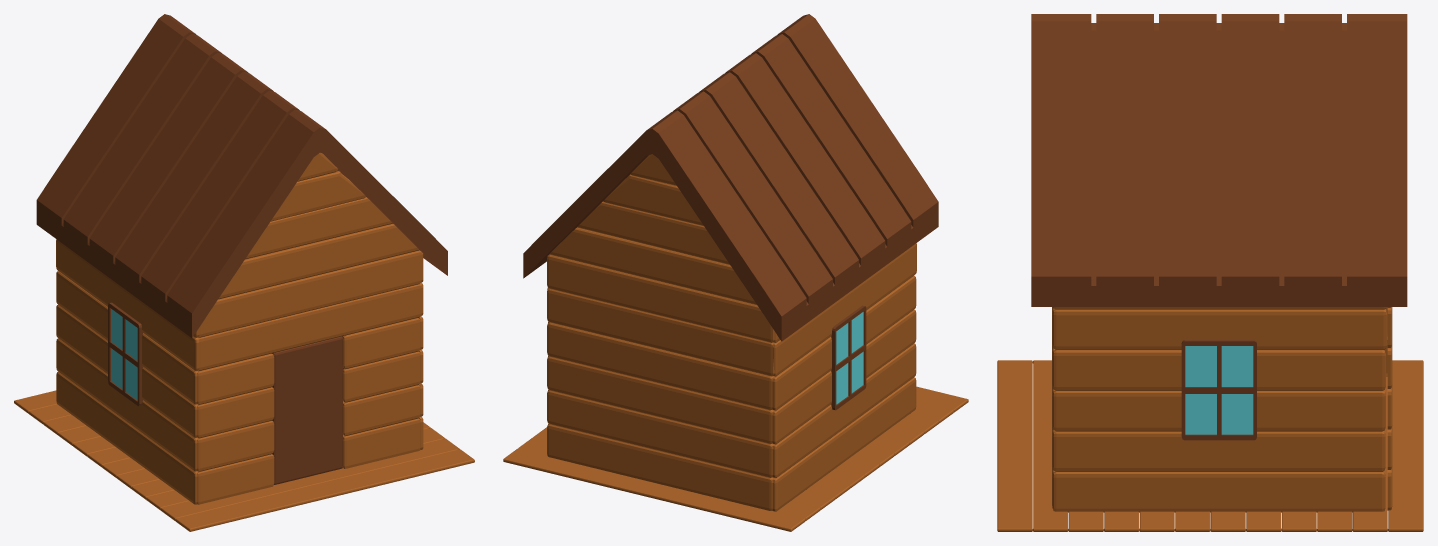
The model's file is hut1.fbx.
The picture shows the model from 3 angles, left to right: view 1: azimuth 30°, elevation 25°; view 2: azimuth 150°, elevation 25°; view 3: azimuth 270°, elevation 25°; orthographic projection. The views are drawn at different scales.
Parts seen in each view (by area): view 1: Cube.063; view 2: Cube.063; view 3: Cube.063.
Boxes of the visible parts, x1,y1,x2,y2 form: Cube.063: [14, 14, 474, 531]; Cube.063: [503, 14, 968, 531]; Cube.063: [997, 14, 1423, 531].
Size of the model in its own units: 402 by 484 by 430.
